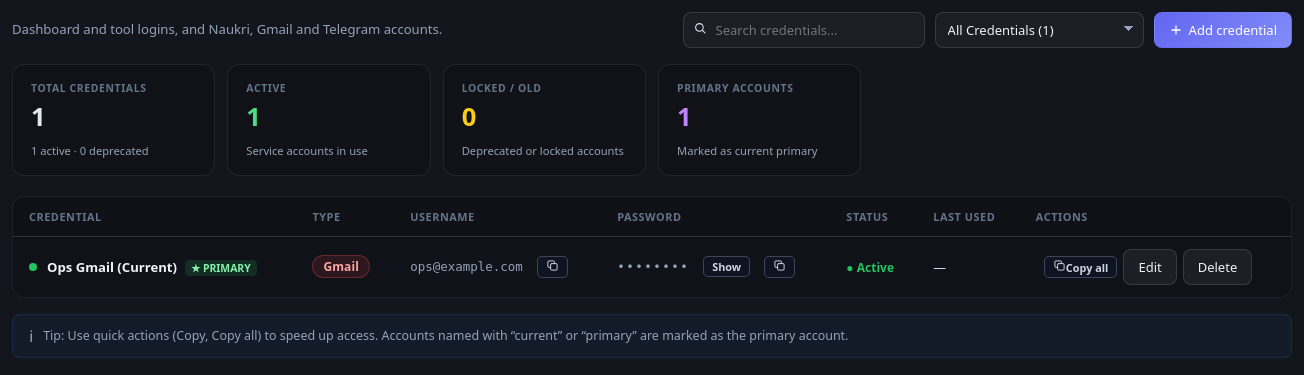
Scenario: an Accounts row › names what each copy button copies and confirms the copy
The width and height of the screenshot is (1304, 375).
Check: the button named "Copy password" is shown, box [764,256,795,278]
Click the button named "Copy username": (552, 267) [537,256,568,278]
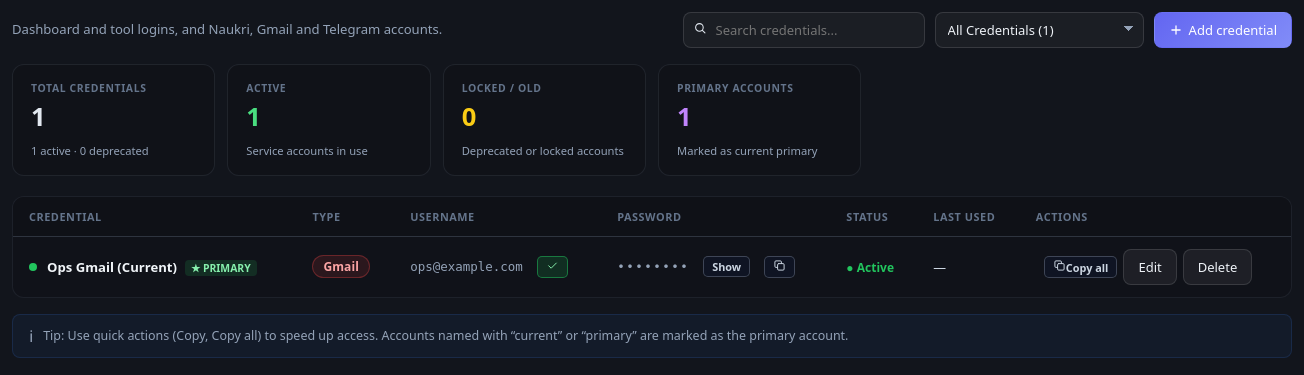
Check: the button named "Copied username" is shown, box [537,256,568,278]
